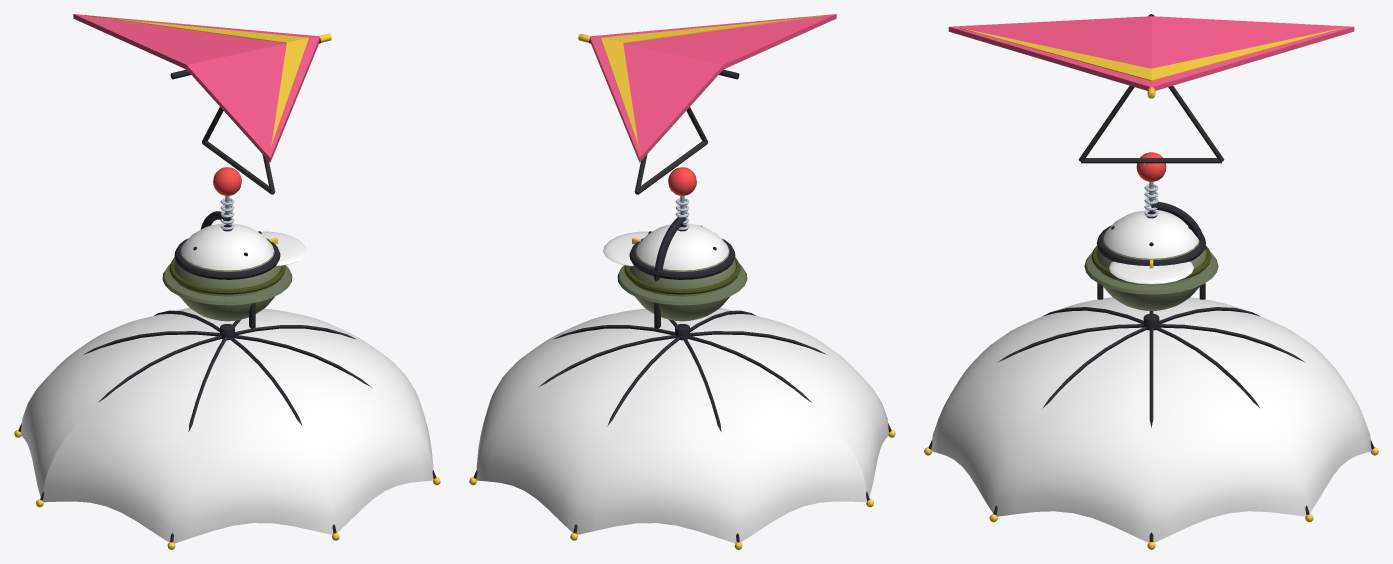
Rendered from shop.glb.
3 views of the same model, side by side, from view 1: azimuth 30°, elevation 25°; view 2: azimuth 150°, elevation 25°; view 3: azimuth 270°, elevation 25° (orthographic). The views are drawn at different scales.
Parts seen in each view (by area): view 1: U_canopy, G_glider, HAT3_f, HAT1_t, U_ribs, HAT4_f; view 2: U_canopy, G_glider, HAT3_f, U_ribs, HAT1_t, HAT4_f; view 3: U_canopy, G_glider, HAT1_t, U_ribs, HAT3_f, HAT4_f.
Boxes of the visible parts, box(x1,y1,x2,y2) form: U_canopy: box(20, 308, 433, 543); G_glider: box(73, 14, 331, 194); HAT3_f: box(162, 238, 292, 328); HAT1_t: box(181, 223, 306, 270); U_ribs: box(14, 310, 440, 549); HAT4_f: box(174, 167, 280, 279); U_canopy: box(476, 308, 889, 543); G_glider: box(578, 14, 836, 194); HAT3_f: box(617, 238, 747, 328); U_ribs: box(469, 310, 895, 549); HAT1_t: box(603, 223, 728, 270); HAT4_f: box(629, 167, 735, 281); U_canopy: box(931, 297, 1371, 542); G_glider: box(948, 14, 1354, 163); HAT1_t: box(1103, 210, 1198, 284); U_ribs: box(924, 307, 1378, 549); HAT3_f: box(1084, 234, 1218, 310); HAT4_f: box(1097, 152, 1205, 265).
Size of the model in its own units: 103 by 109 by 103.
